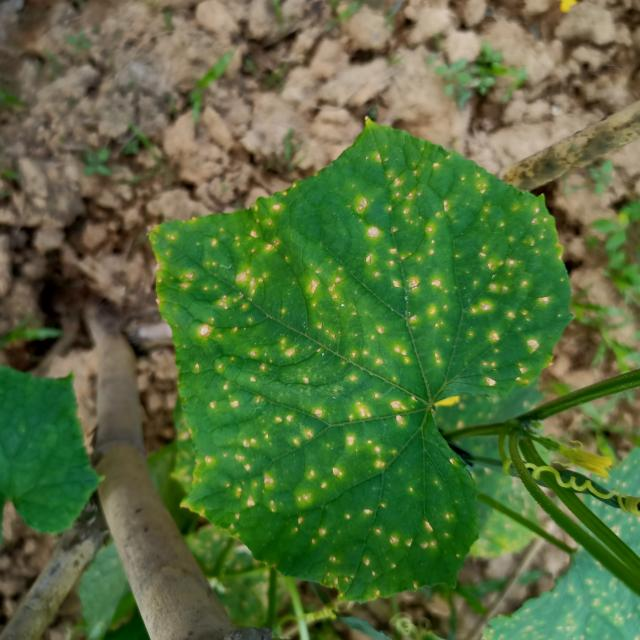disease_cucumber: (169, 153, 561, 585)
